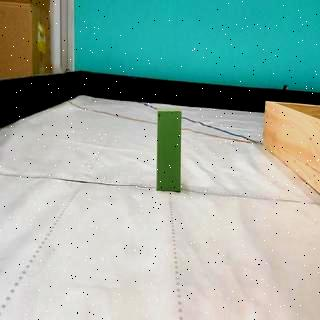greenbox: (157, 110, 180, 194)
